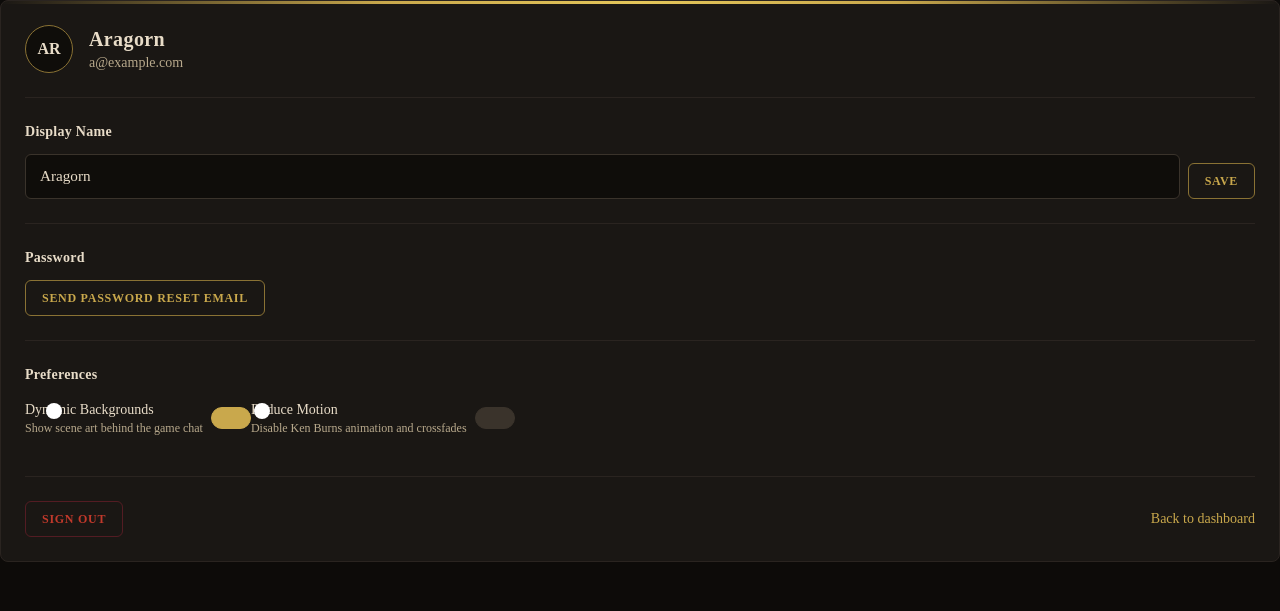
Test case: AccountView › display name saving › shows server error message on failure
This screenshot has width=1280, height=611.
Click the button "Save": (1221, 181) [1188,163,1255,199]
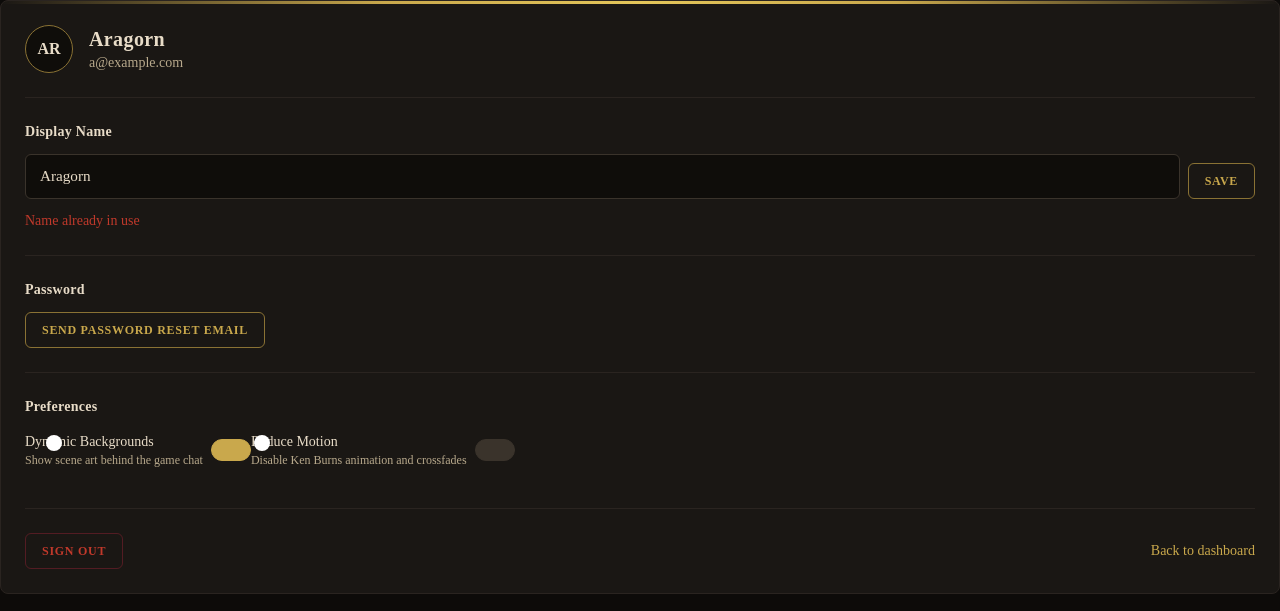
Now the text "Name already in use" is shown, box [25,213,140,228]
